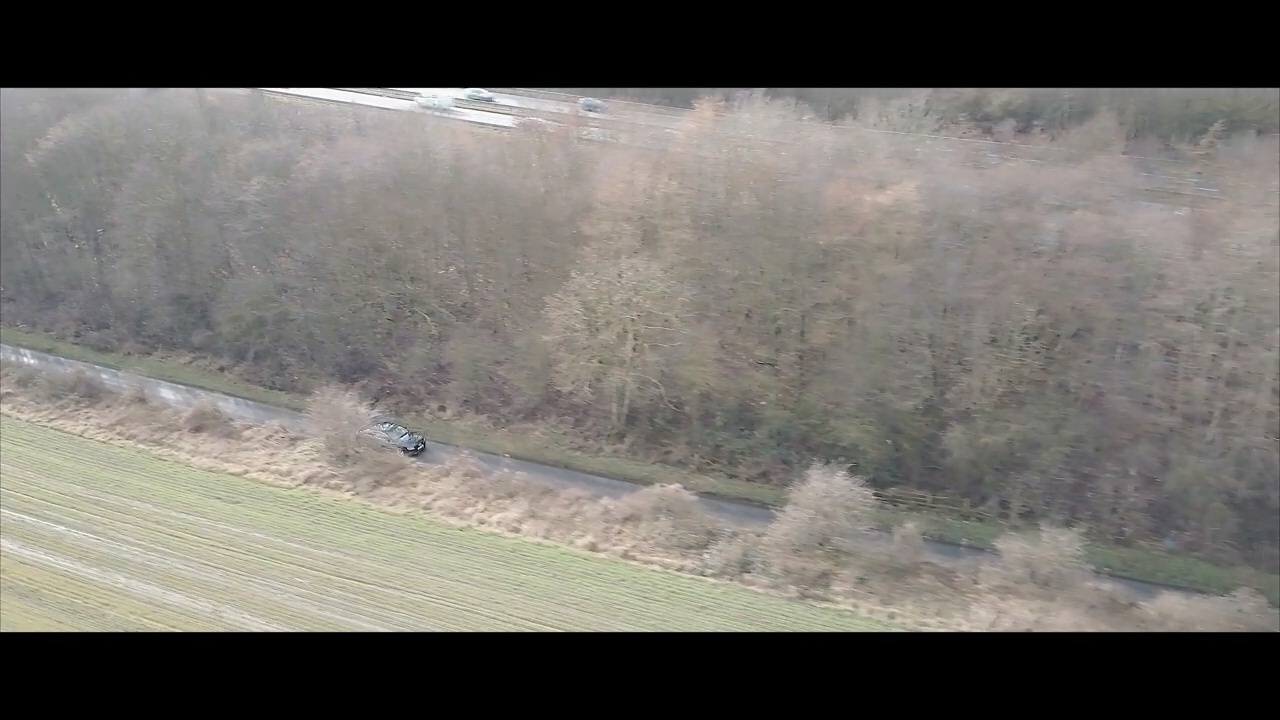araba: (347, 420, 428, 455)
